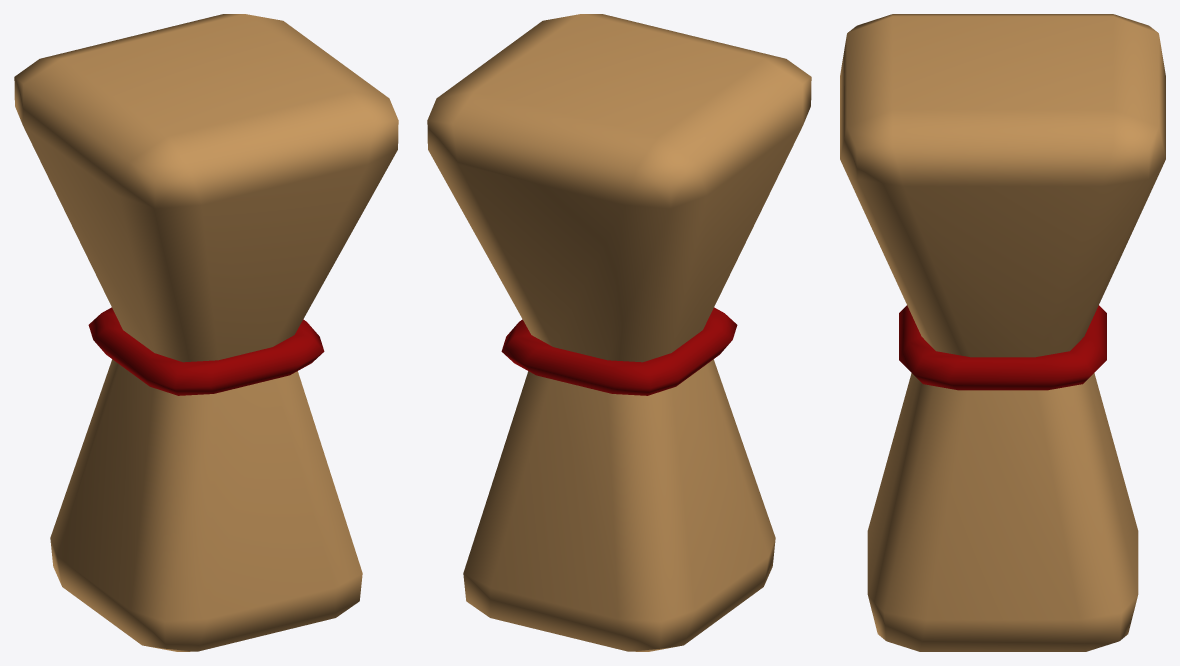
The model's file is MSH_int_Hay.fbx.
The picture shows the model from 3 angles, left to right: view 1: azimuth 30°, elevation 25°; view 2: azimuth 150°, elevation 25°; view 3: azimuth 270°, elevation 25°; orthographic projection. The views are drawn at different scales.
Parts seen in each view (by area): view 1: HayV2; view 2: HayV2; view 3: HayV2.
Part boxes in pixels (bbox=[...]): HayV2: bbox=[14, 14, 398, 651]; HayV2: bbox=[427, 14, 811, 651]; HayV2: bbox=[840, 14, 1165, 651].
Size of the model in its own units: 1.89 by 3.53 by 1.89.
